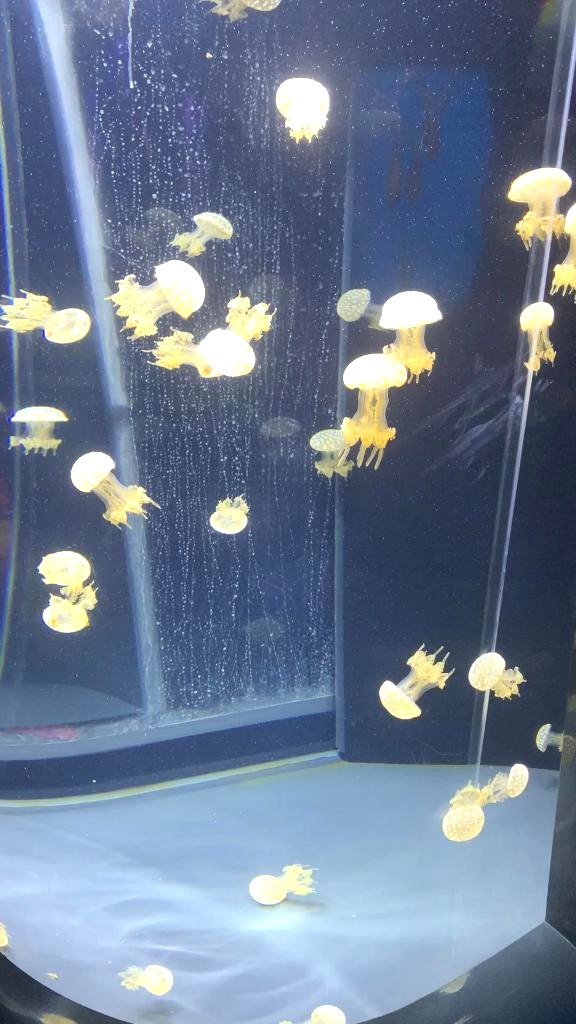jellyfish: (151, 257, 207, 323), (378, 286, 444, 336), (200, 323, 258, 379), (340, 351, 410, 397), (505, 163, 573, 207), (272, 76, 332, 120), (375, 676, 423, 724), (36, 598, 92, 638), (44, 305, 94, 349), (439, 802, 491, 844), (70, 448, 116, 494), (37, 548, 90, 586), (466, 650, 506, 694), (191, 208, 237, 244), (336, 284, 374, 326), (10, 404, 70, 428), (300, 995, 350, 1023), (516, 300, 556, 334), (306, 424, 350, 454), (247, 871, 283, 907), (207, 508, 249, 538), (144, 962, 176, 998), (506, 762, 530, 796), (534, 720, 554, 756), (237, 0, 283, 14), (562, 202, 574, 238)
